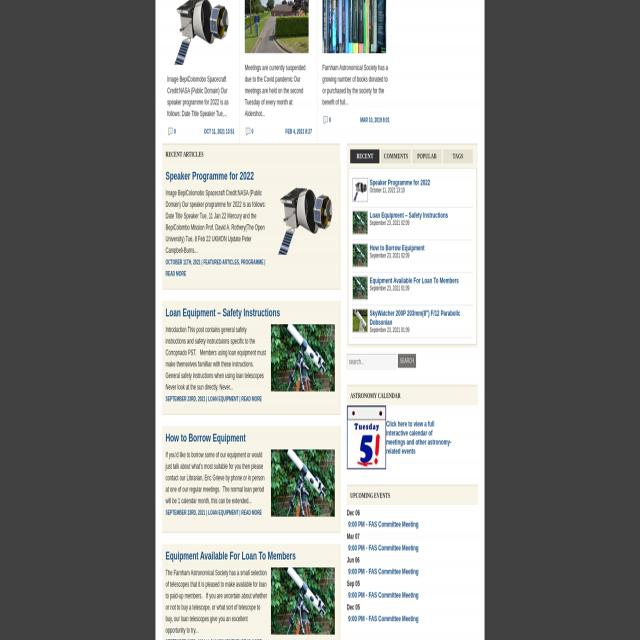button: (271, 187, 335, 255), (271, 324, 335, 392), (271, 449, 335, 517), (271, 566, 335, 634), (167, 0, 231, 65), (245, 0, 309, 53), (322, 0, 386, 53), (347, 406, 386, 470), (412, 149, 442, 164), (350, 149, 380, 163), (381, 150, 411, 164), (443, 150, 472, 164), (352, 308, 368, 333), (352, 178, 368, 202), (352, 211, 368, 235), (352, 243, 368, 267), (352, 276, 368, 300), (398, 354, 416, 368)
field: (347, 354, 396, 370)
